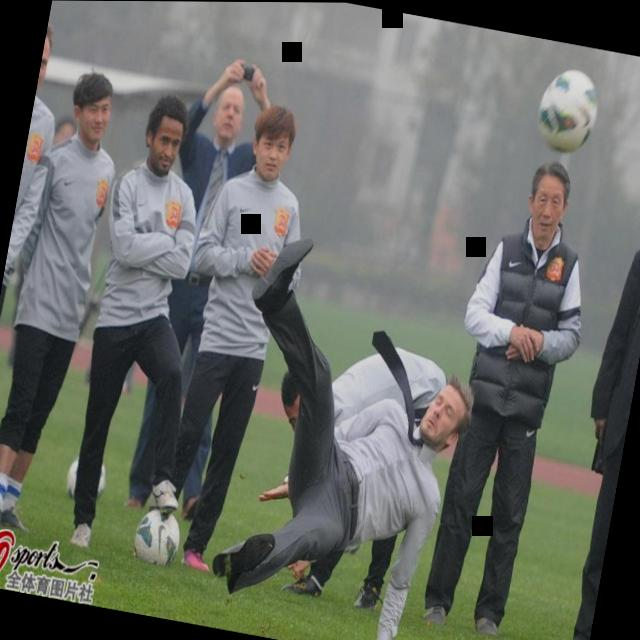Fall-Detected: (189, 239, 506, 640)
